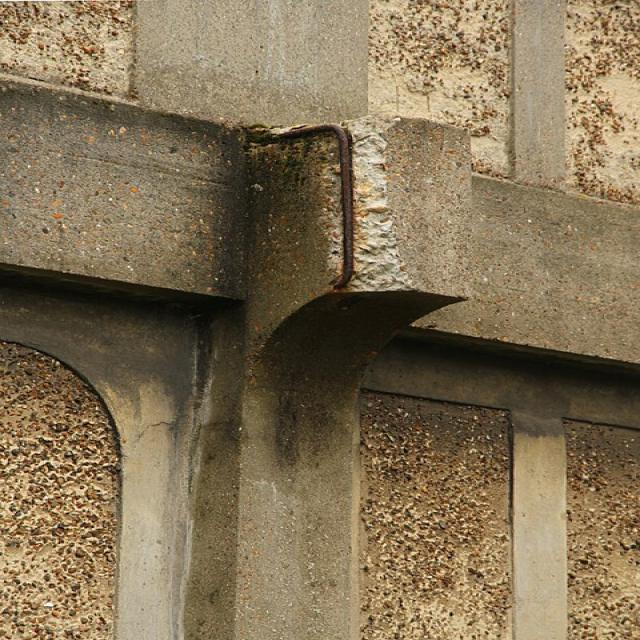spalling: (249, 116, 418, 293)
stain_mould: (197, 156, 469, 520), (281, 123, 354, 291)
